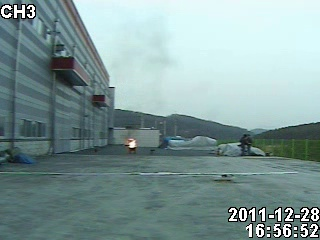fire: (123, 133, 138, 150)
